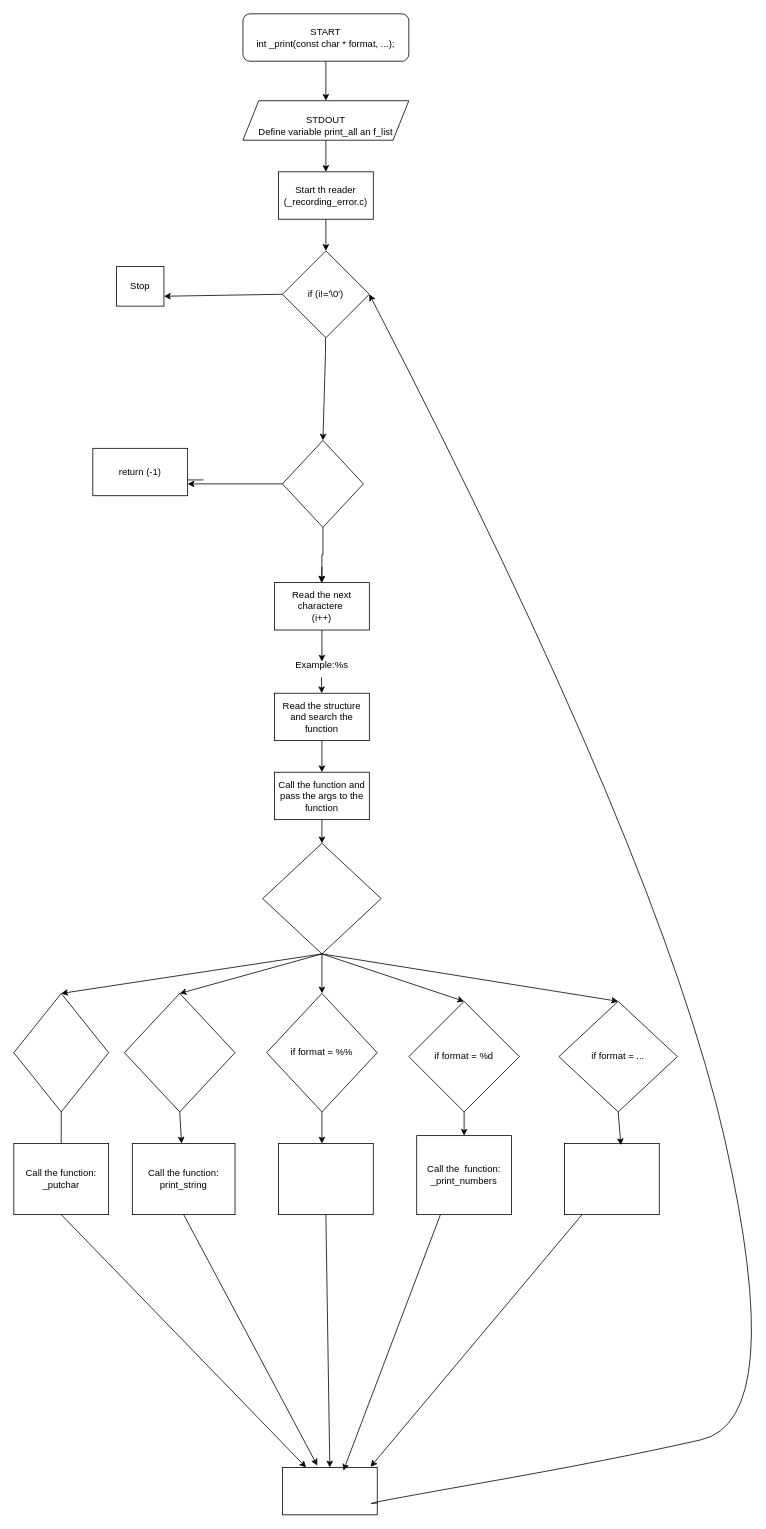
The diagram is 766 pixels wide and 1529 high, and some of its shapes have lost their labels. Here are the shapes that lost their labels. From the top down, the box of each, then its label:
(282, 440, 363, 527): format == Null
(262, 843, 381, 954): Depends the function, a result
(13, 993, 109, 1112): if format =%c
(124, 993, 235, 1112): if format =%s
(278, 1143, 373, 1215): Call the function: _write_char and pass the % as a parameter
(564, 1143, 659, 1215): Call the specific function to this format
(282, 1467, 377, 1515): Output and return the number of chars printed
